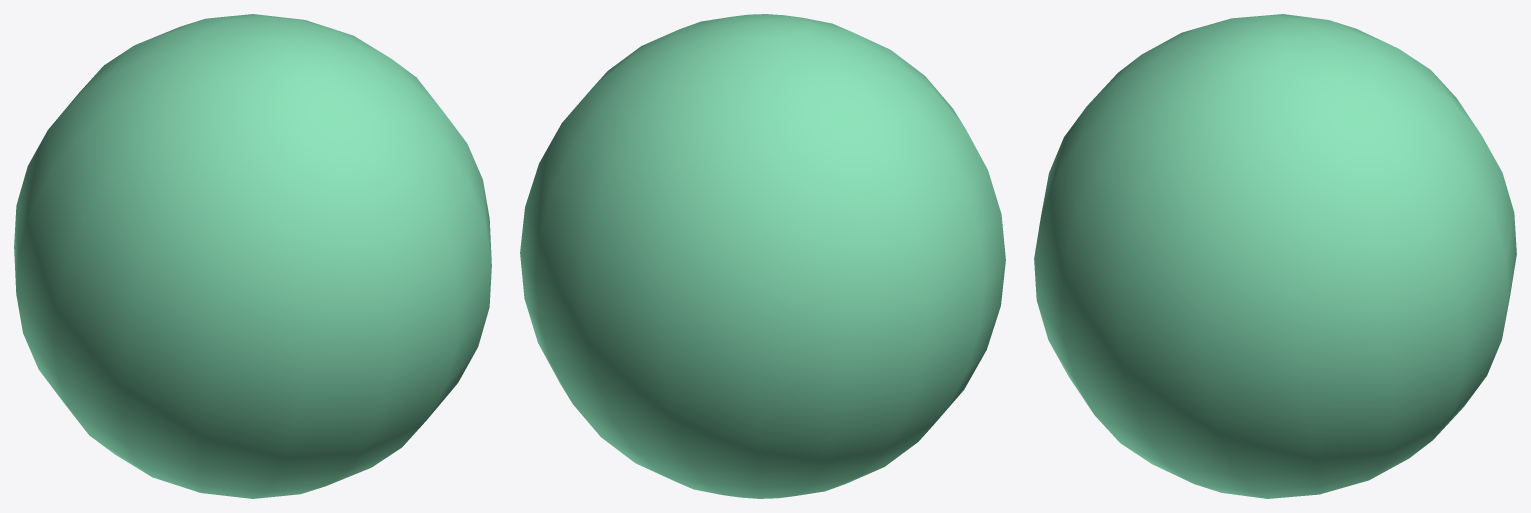
3 renders of one model, left to right at view 1: azimuth 30°, elevation 25°; view 2: azimuth 150°, elevation 25°; view 3: azimuth 270°, elevation 25°, orthographic.
Visible parts, largest first — view 1: orb3.007; view 2: orb3.007; view 3: orb3.007.
Boxes of the visible parts, x1=… form: orb3.007: x1=14, y1=14, x2=491, y2=498; orb3.007: x1=520, y1=14, x2=1005, y2=498; orb3.007: x1=1034, y1=14, x2=1516, y2=498.
Size of the model in its own units: 0.3971 by 0.3999 by 0.3976.
